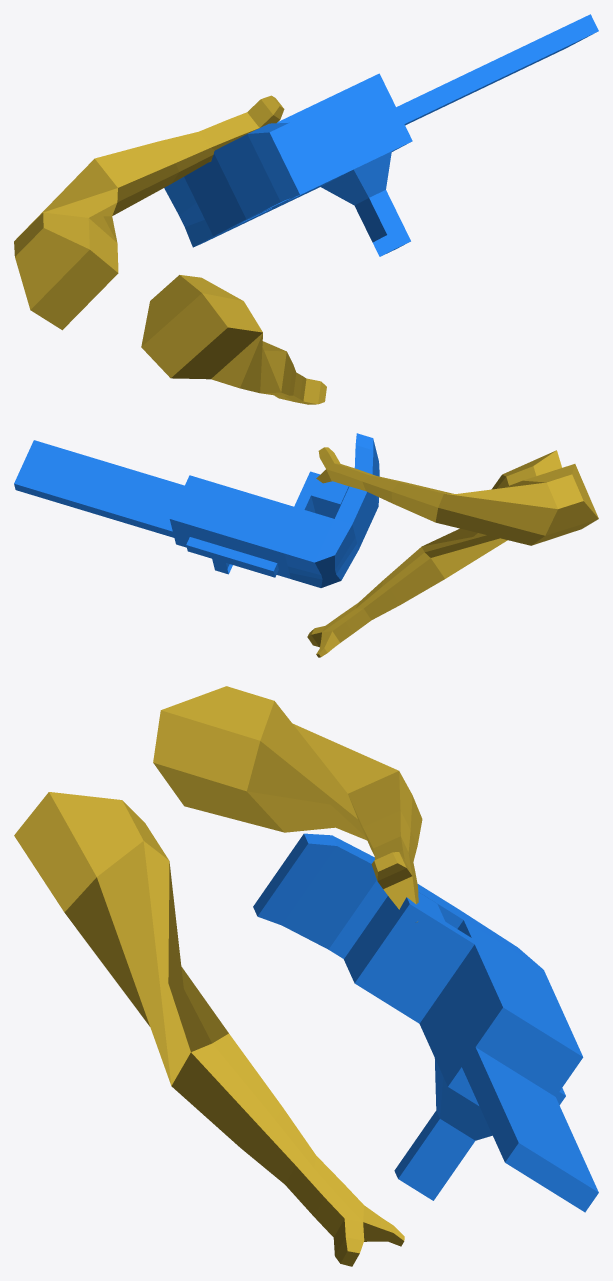
Rendered from arme_000244.obj.
3 views of the same model, one above another, from view 1: azimuth 30°, elevation 25°; view 2: azimuth 150°, elevation 25°; view 3: azimuth 270°, elevation 25° (orthographic). The views are drawn at different scales.
Parts seen in each view (by area): view 1: Cube.048_Cube.024, Cube.046_Cube.010; view 2: Cube.046_Cube.010, Cube.048_Cube.024; view 3: Cube.048_Cube.024, Cube.046_Cube.010.
Part boxes in pixels (box(x1,y1,x2,y2)): Cube.048_Cube.024: box(14, 95, 326, 404); Cube.046_Cube.010: box(164, 14, 598, 256); Cube.046_Cube.010: box(14, 433, 379, 587); Cube.048_Cube.024: box(307, 447, 598, 657); Cube.048_Cube.024: box(14, 686, 422, 1266); Cube.046_Cube.010: box(253, 833, 598, 1212).
Size of the model in its own units: 2319 by 977 by 1312.
